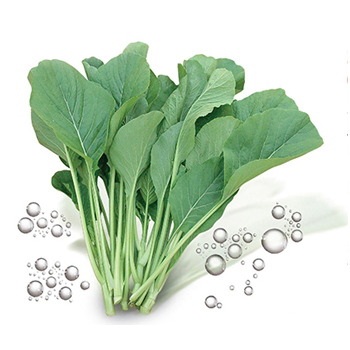Sawi: (39, 31, 223, 296)
